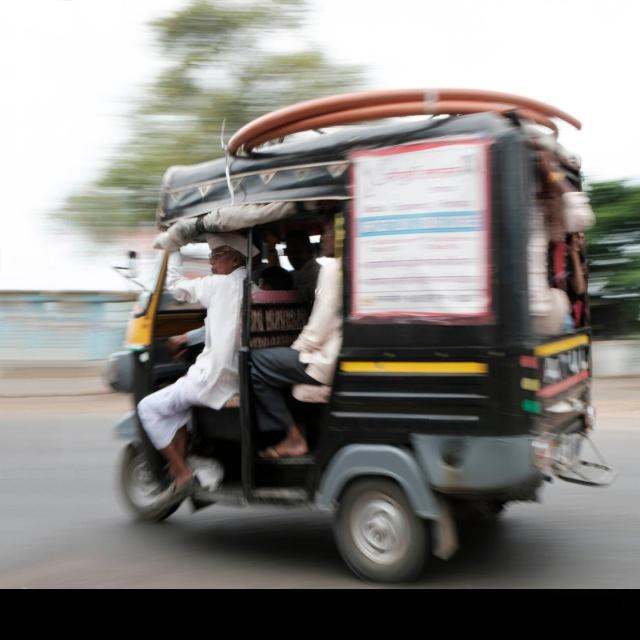autorickshaw: (109, 89, 611, 582)
